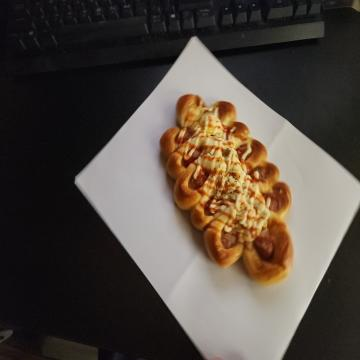pizza_bread: (161, 94, 295, 286)
